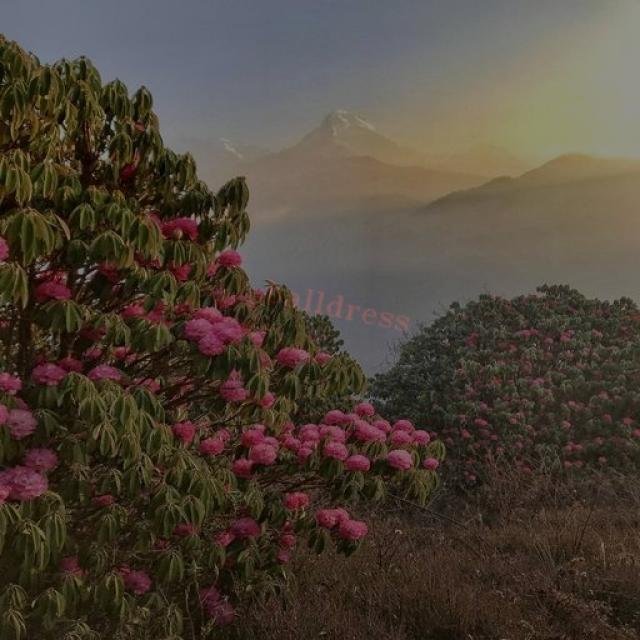watermark: (255, 278, 429, 336)
